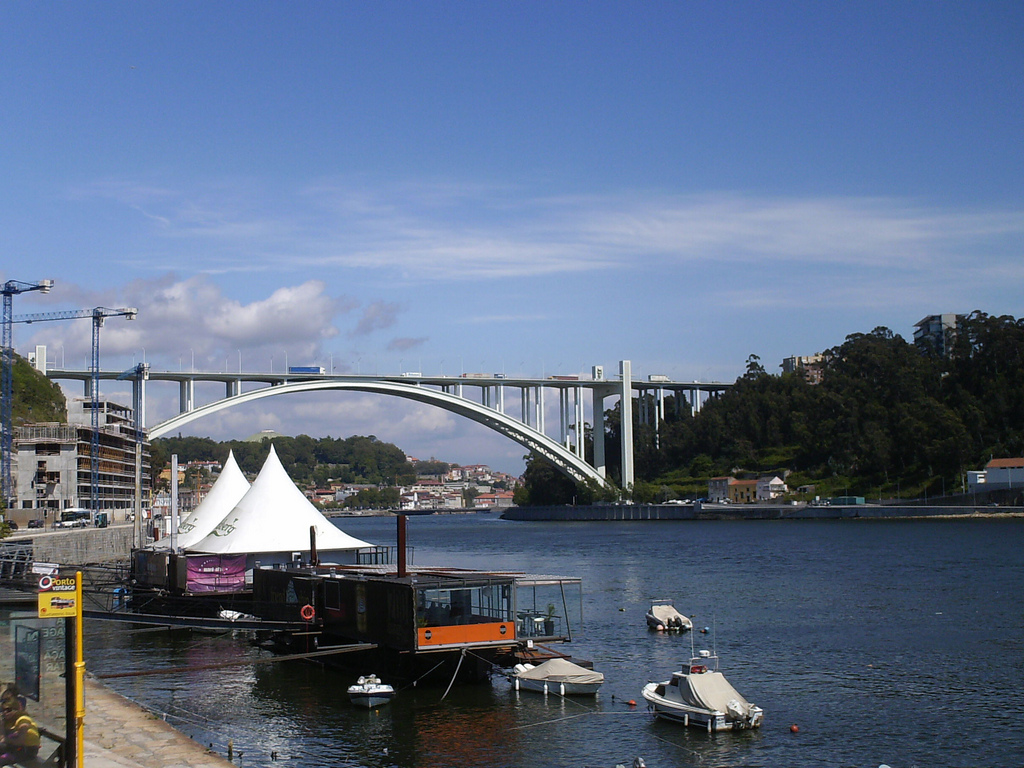arrabida: (27, 356, 750, 504)
